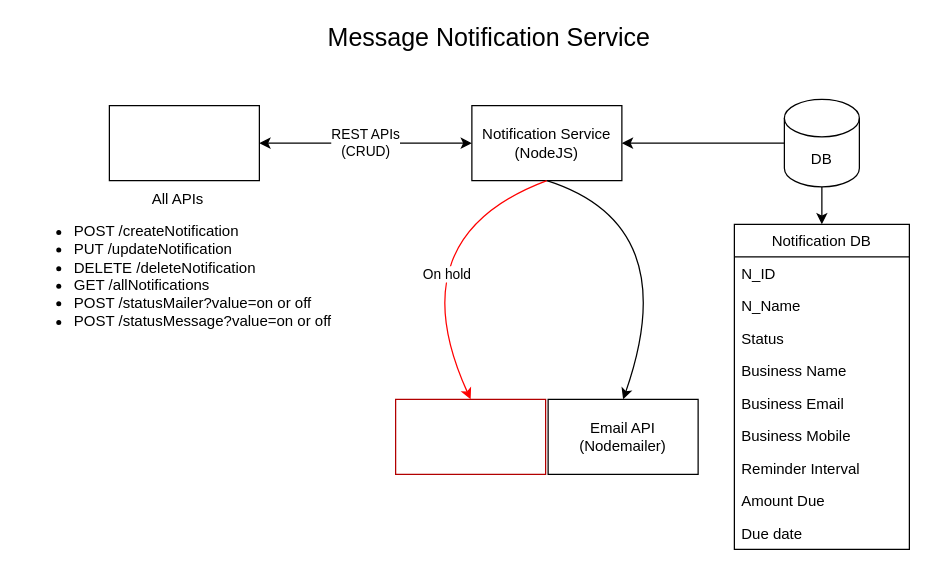
This 931x574 diagram has some shape labels left out. The centre of each missing label's shape, as x and y in pixels:
Frontend (NextJS): point (183, 142)
Message API (MSG91): point (470, 436)
